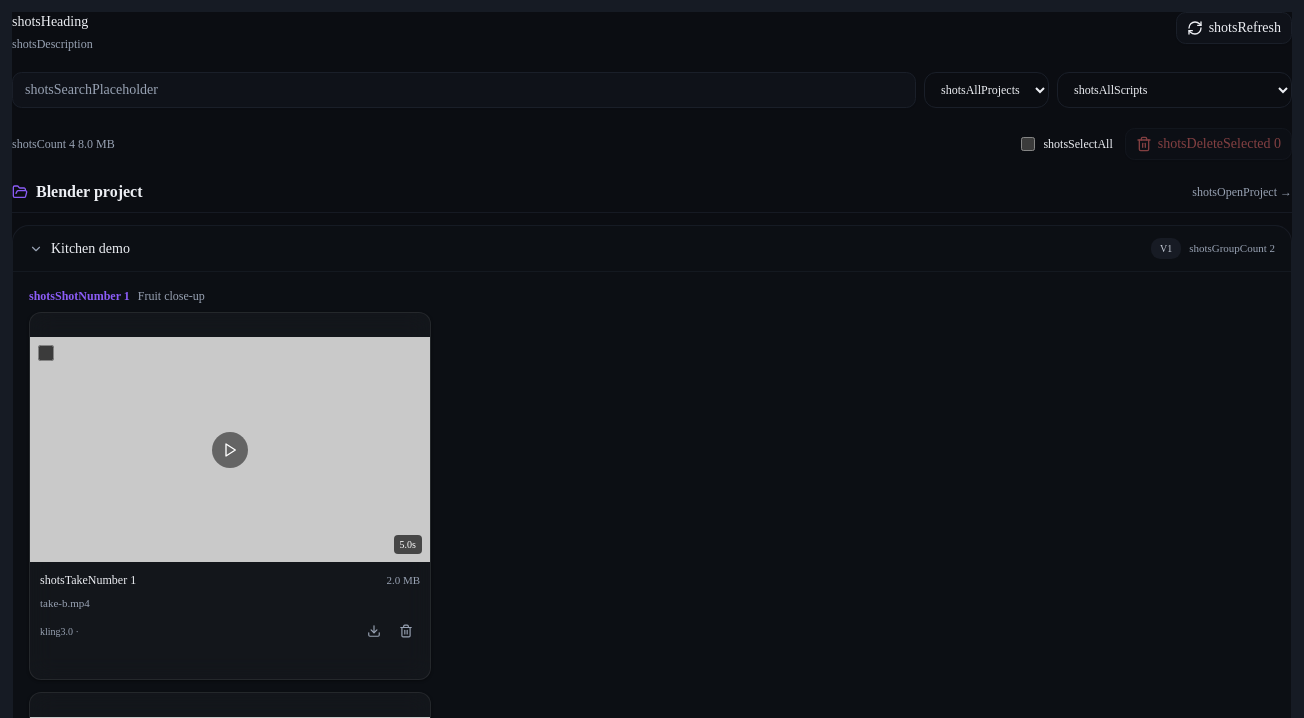
local shot library › retains a take with a translated inline error after a network deletion failure
What coordinates should you click on to do the following:
click the button named "shotsDelete"
I would click on:
 (406, 631)
Its box is [392,617,420,645].
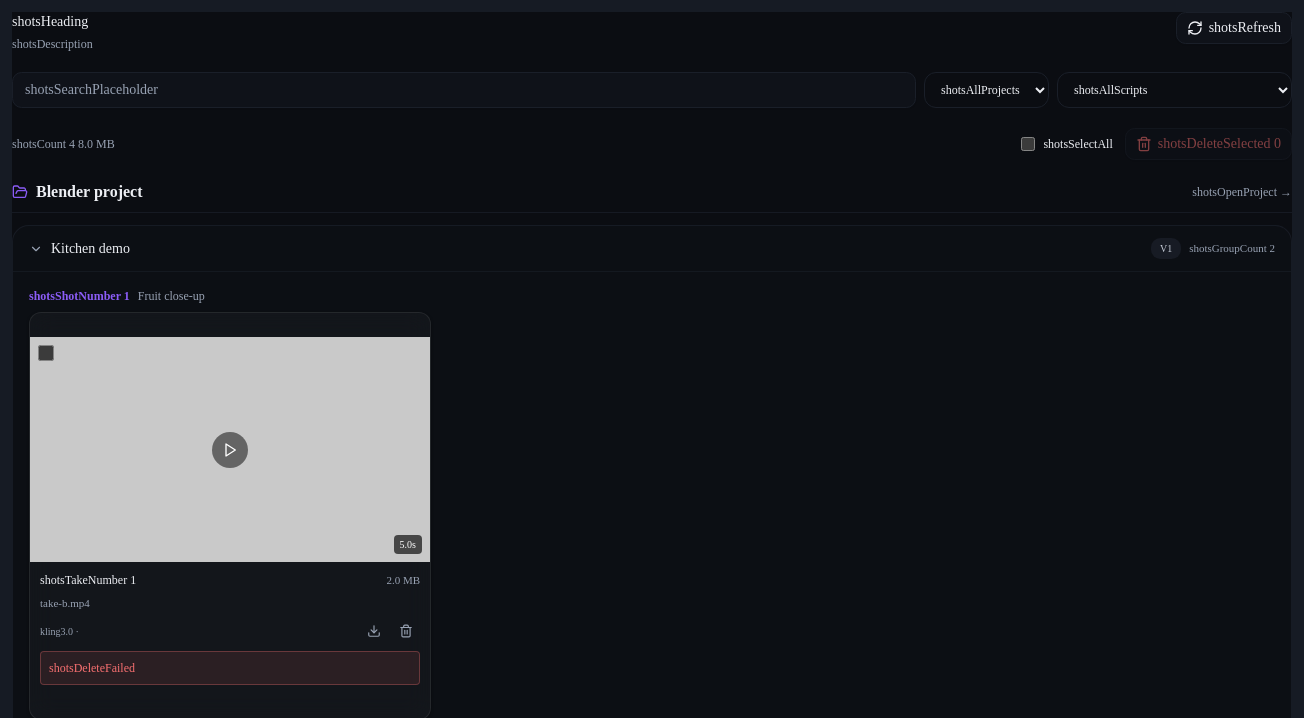
Expected: the message "shotsDeleteFailed" is shown, [40,651,420,685]
